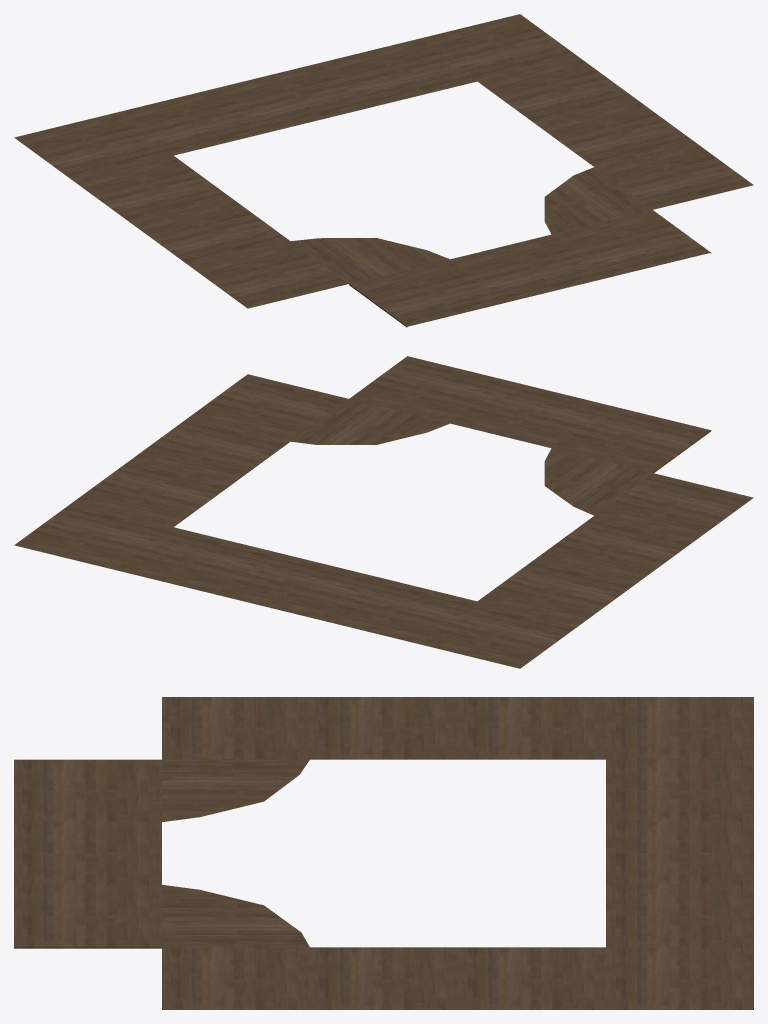
The model's file is Homeworld_Interior_Dq_Room_Q_Floor_01_Vo.fbx.
The picture shows the model from 3 angles, top to bottom: view 1: azimuth 30°, elevation 25°; view 2: azimuth 150°, elevation 25°; view 3: azimuth 270°, elevation 25°; orthographic projection. The views are drawn at different scales.
Parts seen in each view (by area): view 1: Homeworld_Interior_Dq_Room_Q_Floor_01_Vo; view 2: Homeworld_Interior_Dq_Room_Q_Floor_01_Vo; view 3: Homeworld_Interior_Dq_Room_Q_Floor_01_Vo.
Part boxes in pixels (x1,y1,x2,y2): Homeworld_Interior_Dq_Room_Q_Floor_01_Vo: [14, 14, 753, 327]; Homeworld_Interior_Dq_Room_Q_Floor_01_Vo: [14, 356, 753, 668]; Homeworld_Interior_Dq_Room_Q_Floor_01_Vo: [14, 697, 753, 1009].
Size of the model in its own units: 25 by 0.0544 by 25.
1 material, 1 textured.
